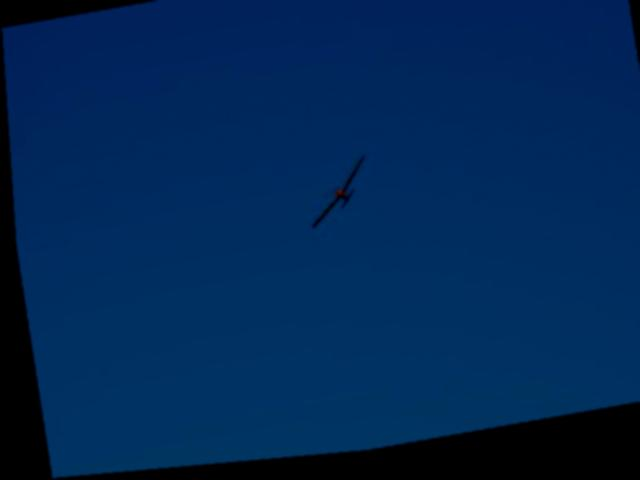iha: (301, 162, 369, 234)
